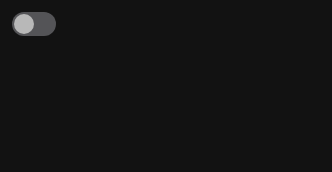
Test: Switch › перемикається натисканням і повідомляє новий стан
Click the switch named "Лише в наявності" at (34, 24), box x1=12 y1=12 x2=56 y2=36
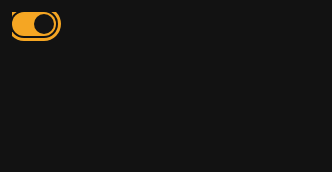
Now the switch named "Лише в наявності" is checked
Click the switch named "Лише в наявності" at (34, 24), box x1=12 y1=12 x2=56 y2=36
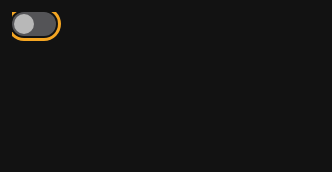
Now the switch named "Лише в наявності" is not checked, box x1=12 y1=12 x2=56 y2=36
